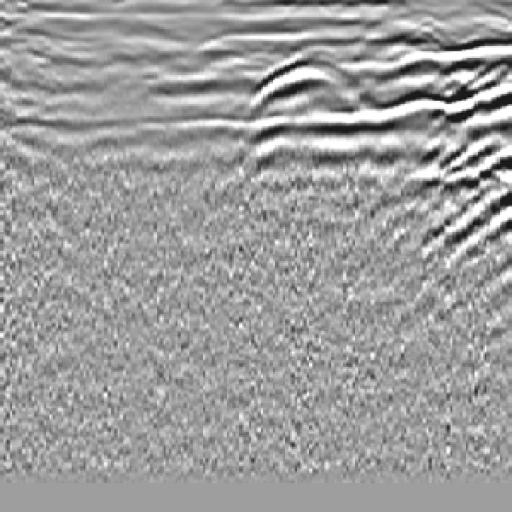metalic: (242, 55, 387, 116)
